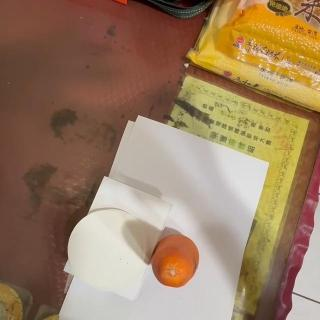carrot: (150, 234, 200, 289)
